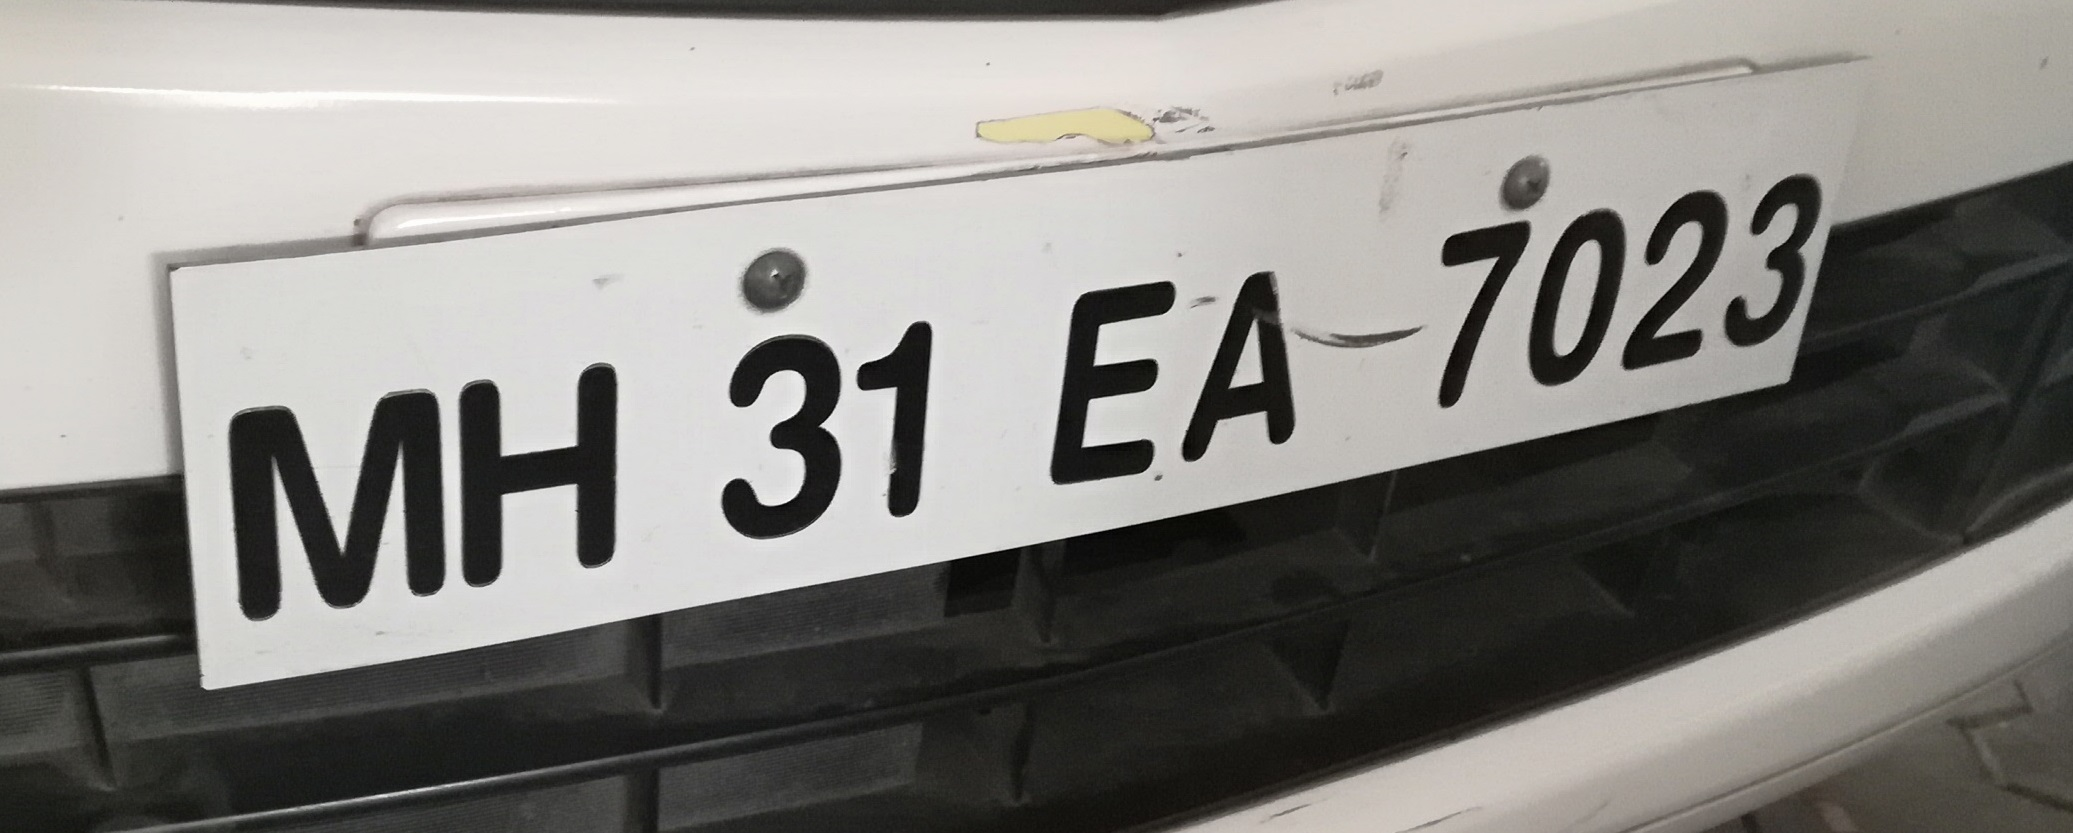numberplate: (159, 57, 1874, 686)
